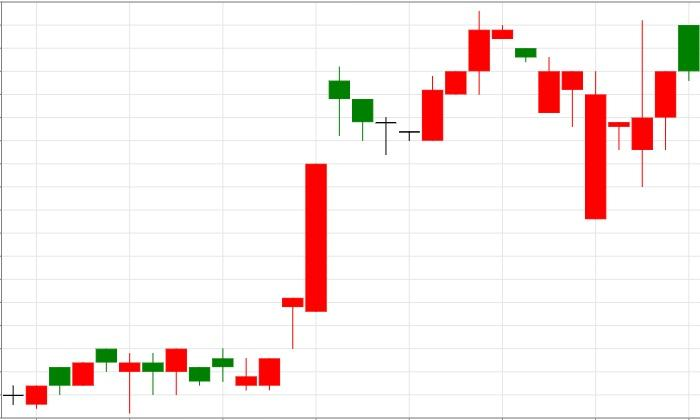three_white_soldiers_rise: (328, 10, 489, 155)
